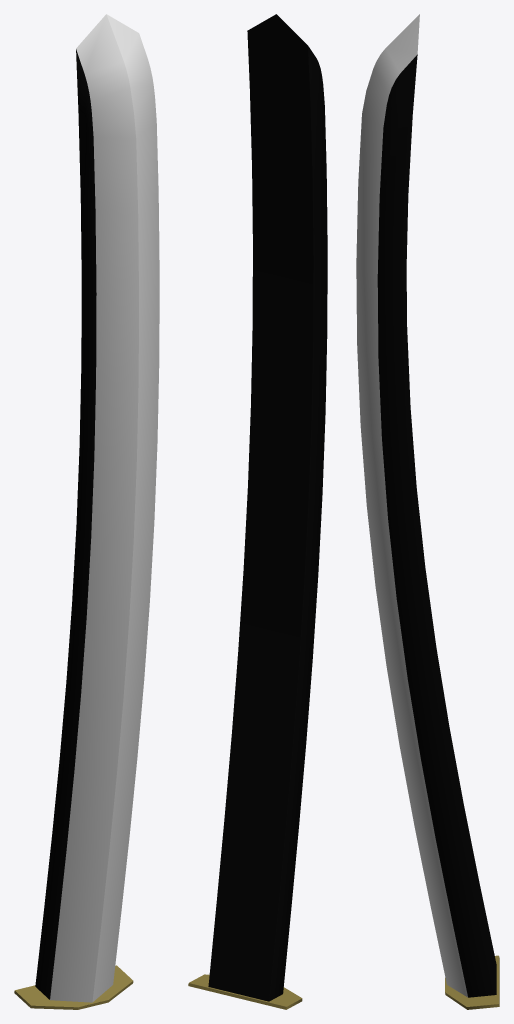
Rendered from KatanaEffect.fbx.
3 renders of one model, left to right at view 1: azimuth 30°, elevation 25°; view 2: azimuth 150°, elevation 25°; view 3: azimuth 270°, elevation 25°, orthographic. The views are drawn at different scales.
Parts seen in each view (by area): view 1: Cube; view 2: Cube; view 3: Cube.
Part boxes in pixels (bbox=[...]): Cube: bbox=[14, 14, 159, 1009]; Cube: bbox=[188, 14, 327, 1009]; Cube: bbox=[356, 14, 499, 1009].
Bounding box in the file's own units: 16.22 × 152 × 20.25.
